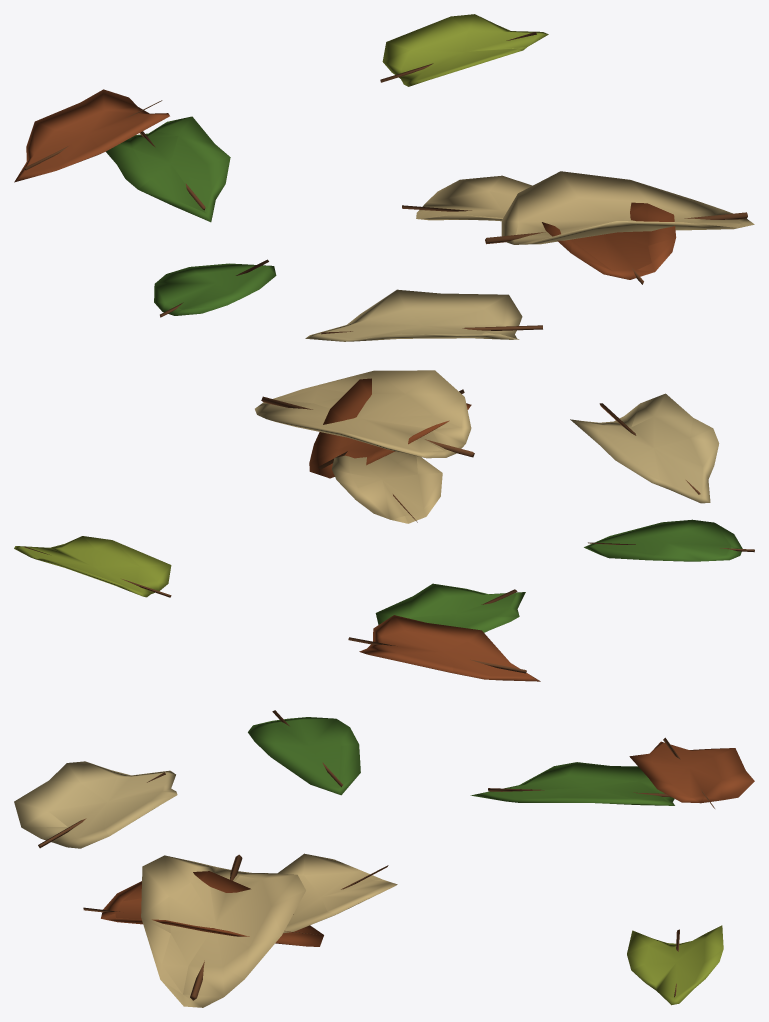
Rendered from mire_gc_leaves_c_lod1.glb.
The picture shows the model from 3 angles, top to bottom: view 1: azimuth 30°, elevation 25°; view 2: azimuth 150°, elevation 25°; view 3: azimuth 270°, elevation 25°; orthographic projection. The views are drawn at different scales.
Parts seen in each view (by area): view 1: mire_gc_leaves_c.001; view 2: mire_gc_leaves_c.001; view 3: mire_gc_leaves_c.001.
Boxes of the visible parts, <box> form: mire_gc_leaves_c.001: <box>14,14,754,341</box>; mire_gc_leaves_c.001: <box>14,370,754,681</box>; mire_gc_leaves_c.001: <box>14,710,754,1007</box>.
Size of the model in its own units: 4.33 by 0.4109 by 4.58.
